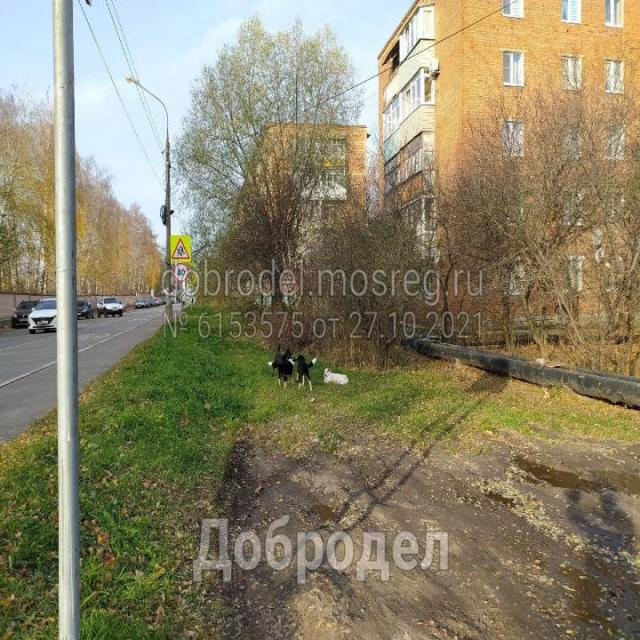car: (26, 295, 73, 335), (9, 296, 41, 330), (96, 296, 129, 320), (76, 299, 95, 322)
dog: (270, 351, 301, 393), (292, 352, 319, 394), (322, 367, 350, 388)
